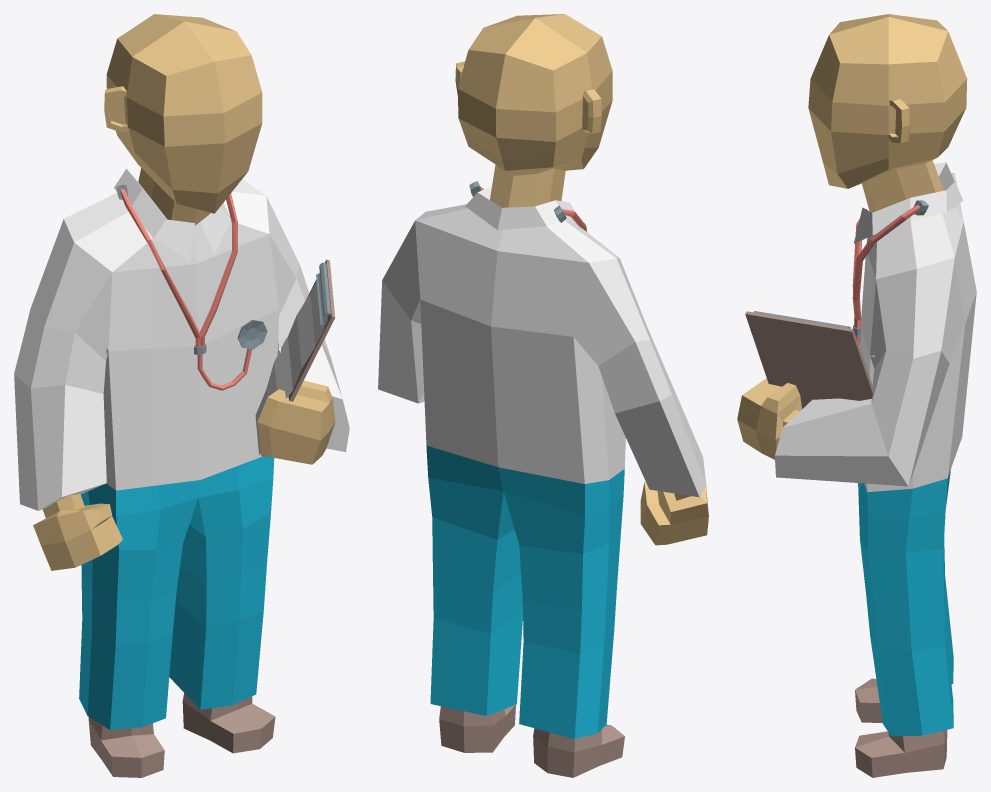
Rendered from The Doctor.glb.
3 views of the same model, side by side, from view 1: azimuth 30°, elevation 25°; view 2: azimuth 150°, elevation 25°; view 3: azimuth 270°, elevation 25° (orthographic).
Parts seen in each view (by area): view 1: doctor_Circle.001; view 2: doctor_Circle.001; view 3: doctor_Circle.001.
Boxes of the visible parts, x1,y1,x2,y2 form: doctor_Circle.001: (14,14,349,777); doctor_Circle.001: (378,14,708,777); doctor_Circle.001: (737,14,976,777).
Bounding box in the file's own units: 5.81 × 12.96 × 3.89.
